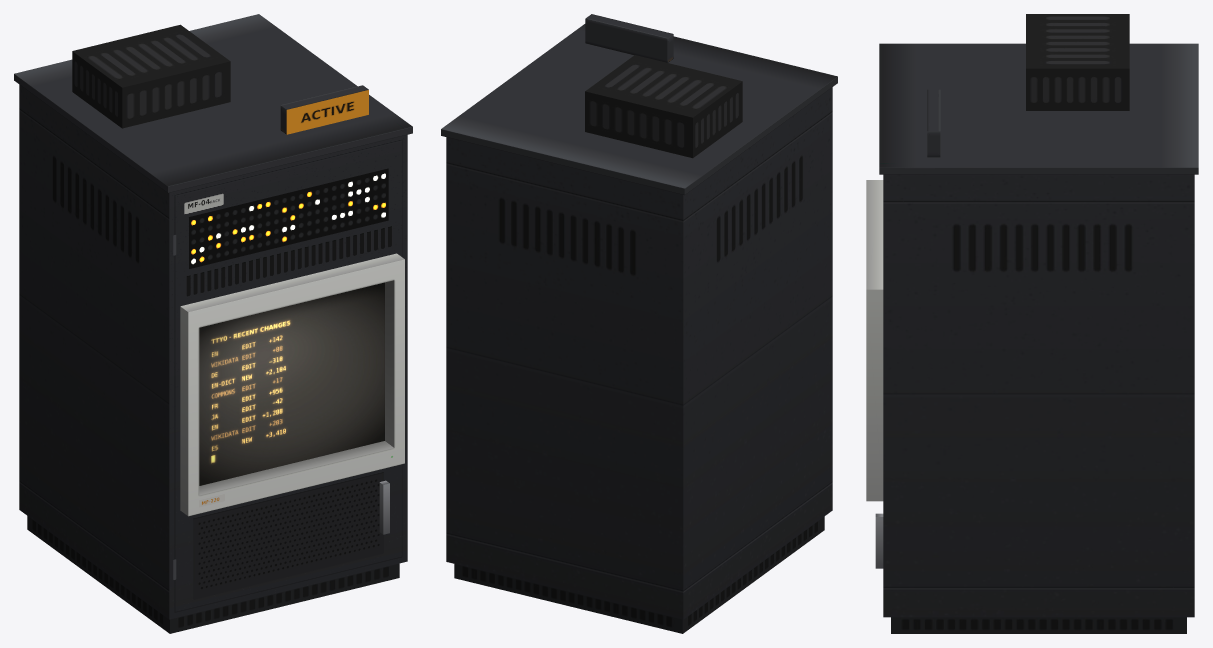
The model's file is cabinet-terminal.glb.
The picture shows the model from 3 angles, left to right: view 1: azimuth 30°, elevation 25°; view 2: azimuth 150°, elevation 25°; view 3: azimuth 270°, elevation 25°; orthographic projection. The views are drawn at different scales.
Visible parts, largest first — view 1: CabinetTerminal, Screen, Bezel, LedPanel; view 2: CabinetTerminal; view 3: CabinetTerminal, Bezel.
Boxes of the visible parts, bbox=[...] form: CabinetTerminal: bbox=[14, 14, 412, 633]; Screen: bbox=[199, 282, 384, 485]; Bezel: bbox=[180, 253, 404, 516]; LedPanel: bbox=[189, 168, 388, 268]; CabinetTerminal: bbox=[441, 14, 837, 633]; CabinetTerminal: bbox=[875, 14, 1198, 633]; Bezel: bbox=[866, 180, 883, 501].
Size of the model in its own units: 1.13 by 2.18 by 1.28.
Materials: 4 (4 with a texture image).
